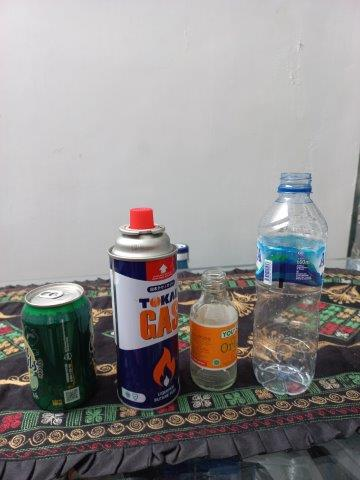botolkaca: (189, 269, 239, 389)
botolplastik: (254, 174, 328, 394)
kaleng: (108, 209, 178, 408), (21, 283, 96, 409)
